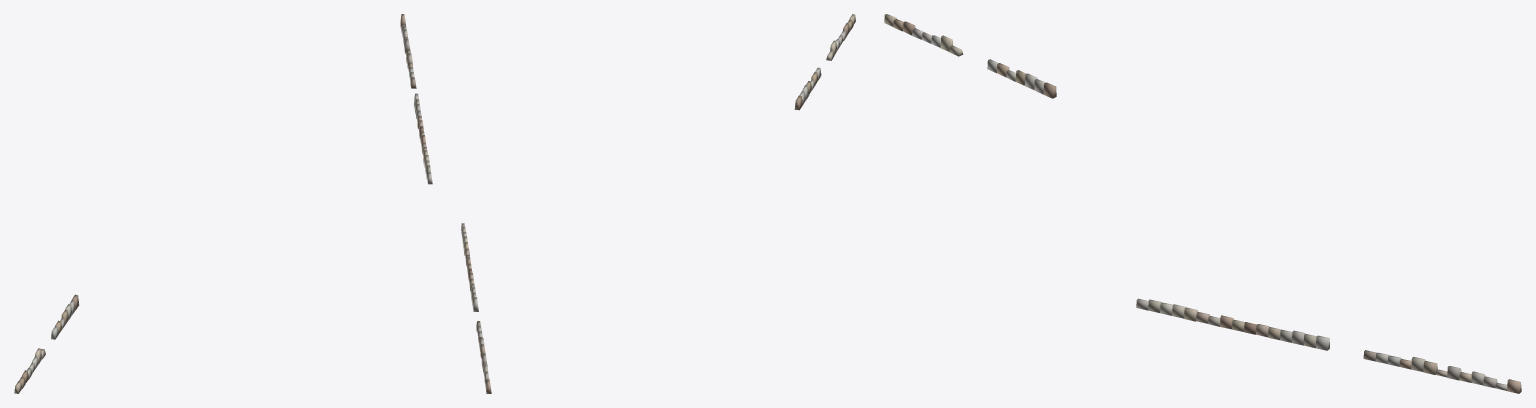
The model's file is farm_-10_-2_far.glb.
The picture shows the model from 3 angles, left to right: view 1: azimuth 30°, elevation 25°; view 2: azimuth 210°, elevation 25°; view 3: azimuth 270°, elevation 25°; orthographic projection. The views are drawn at different scales.
Visible parts, largest first — view 1: geometry_0; view 2: geometry_0; view 3: geometry_0.
Boxes of the visible parts, box(x1,y1,x2,y2) form: geometry_0: box(14, 14, 432, 393); geometry_0: box(461, 14, 855, 393); geometry_0: box(884, 14, 1521, 393).
Size of the model in its own units: 101 by 3.11 by 75.58.
